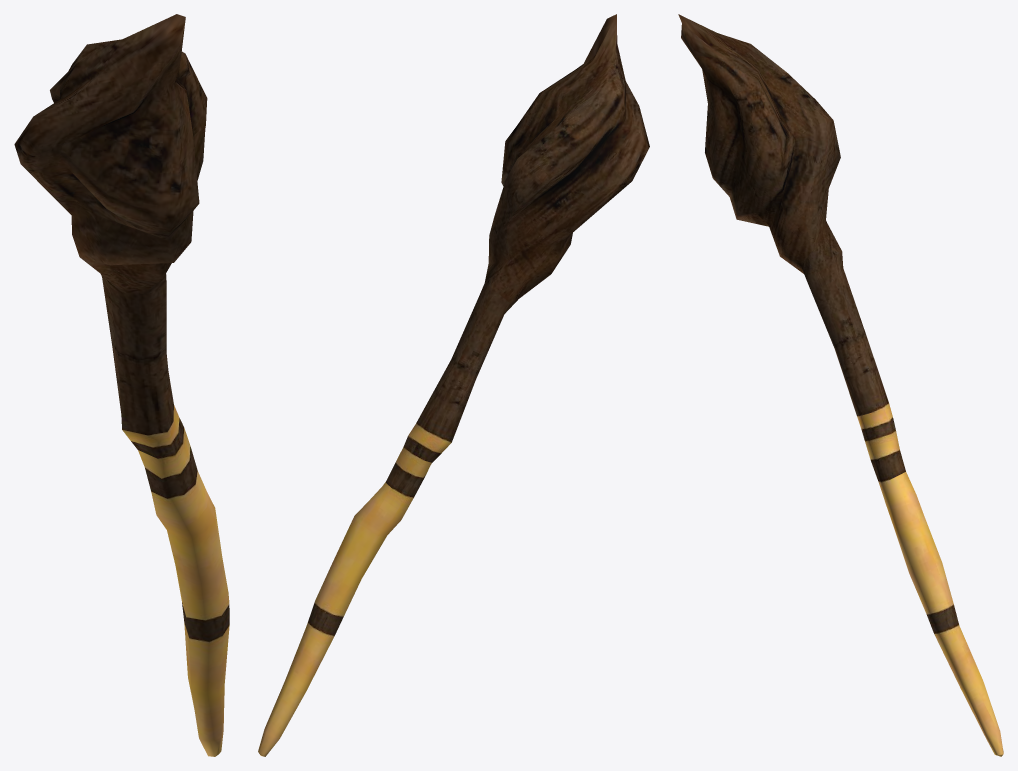
The model's file is weapon-asperblood.glb.
3 renders of one model, left to right at view 1: azimuth 30°, elevation 25°; view 2: azimuth 150°, elevation 25°; view 3: azimuth 270°, elevation 25°, orthographic. The views are drawn at different scales.
Size of the model in its own units: 0.3906 by 0.9544 by 0.4319.
1 material, 1 textured.
